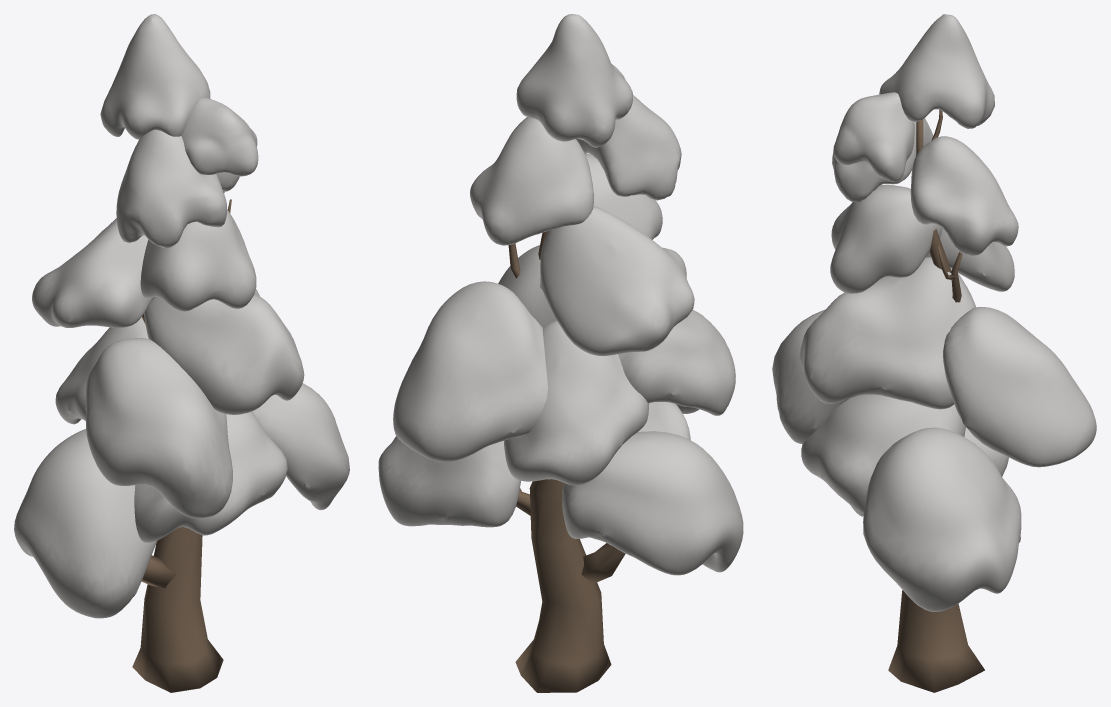
The model's file is Tree_001.fbx.
3 views of the same model, side by side, from view 1: azimuth 30°, elevation 25°; view 2: azimuth 150°, elevation 25°; view 3: azimuth 270°, elevation 25° (orthographic). The views are drawn at different scales.
Parts seen in each view (by area): view 1: Tree.001; view 2: Tree.001; view 3: Tree.001.
Boxes of the visible parts, <box> form: Tree.001: <box>14,14,349,692</box>; Tree.001: <box>378,14,743,692</box>; Tree.001: <box>772,14,1096,692</box>.
Size of the model in its own units: 468 by 904 by 411.
